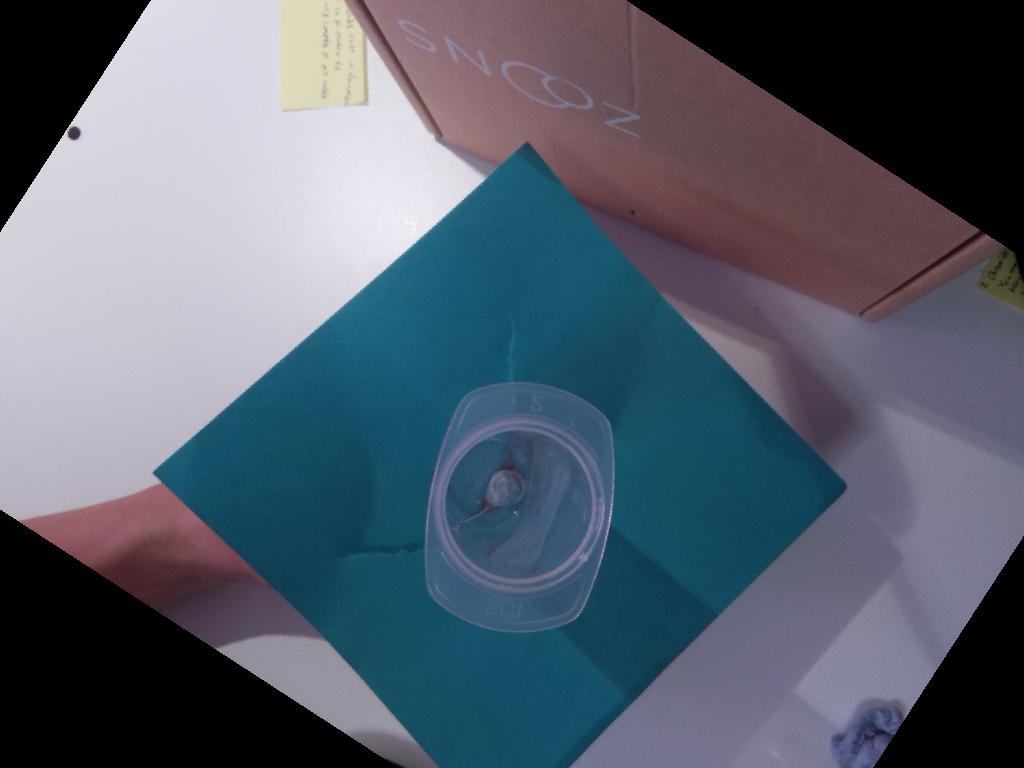clean: (424, 380, 617, 634)
